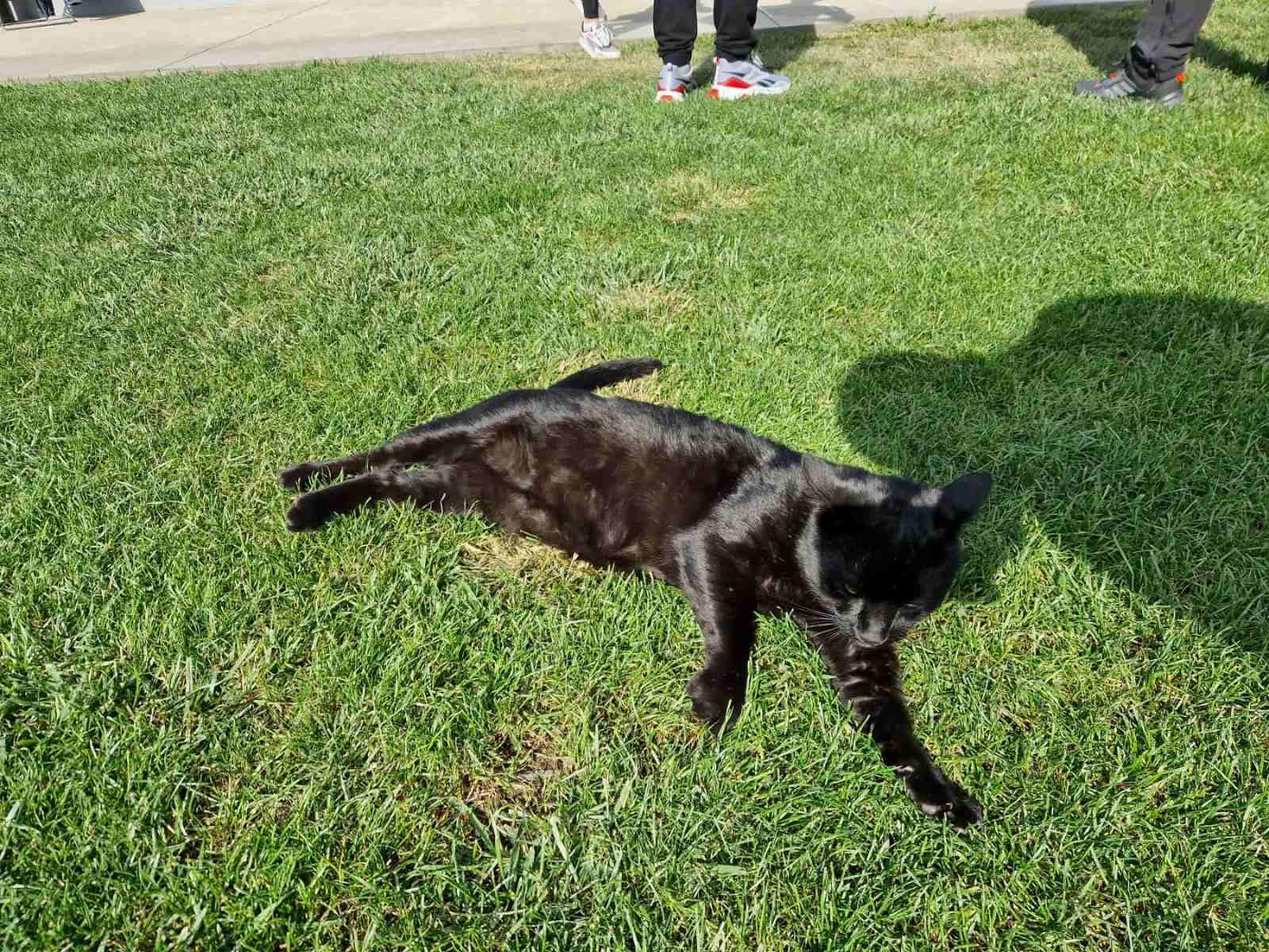macka: (286, 348, 989, 831)
